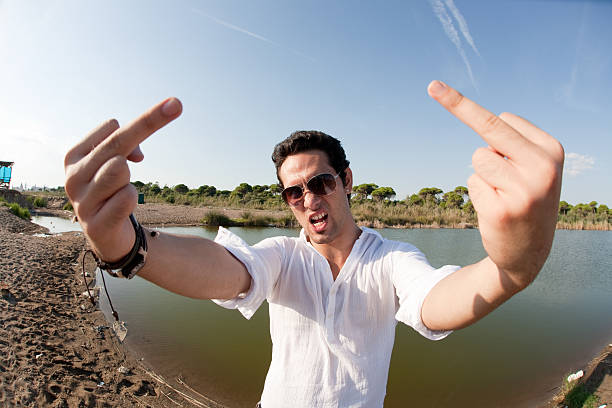insulting_gesture: (427, 74, 563, 275), (60, 95, 184, 248)
